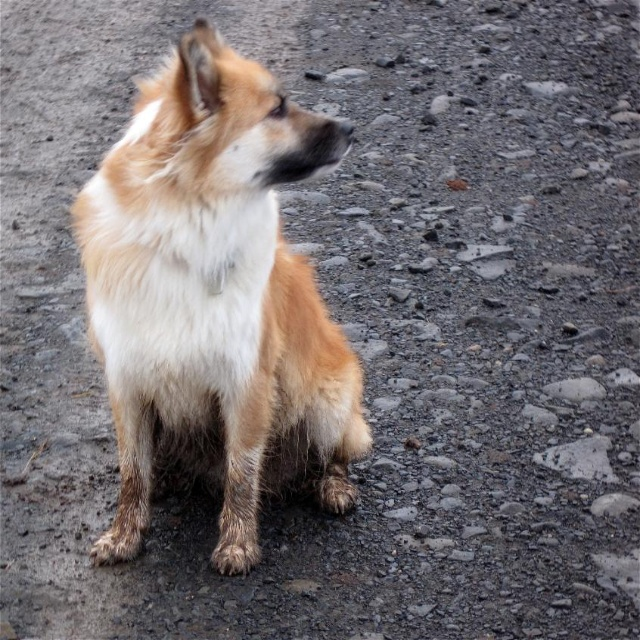Fox: (60, 13, 374, 577)
